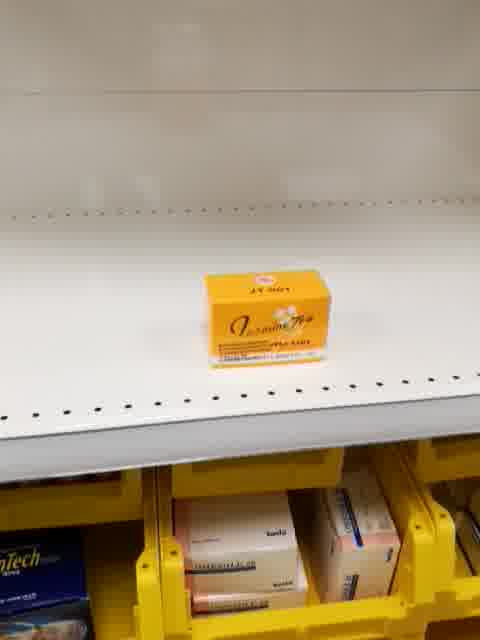jasminetea: (202, 264, 330, 372)
